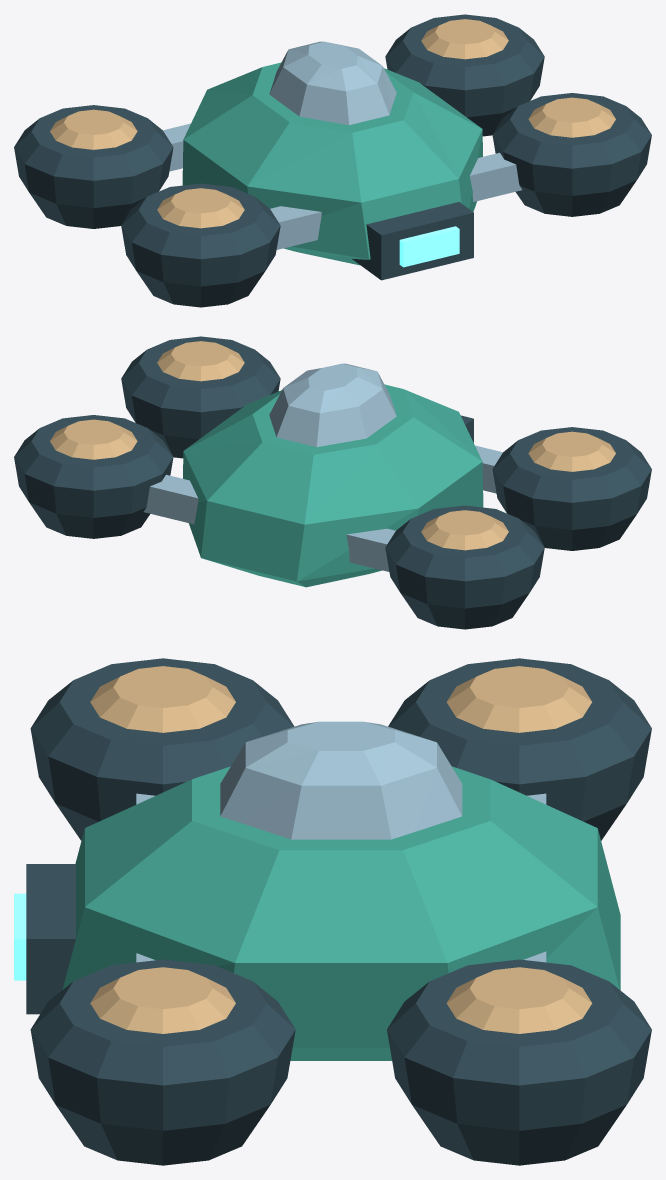
Rendered from survey-drone.glb.
3 views of the same model, one above another, from view 1: azimuth 30°, elevation 25°; view 2: azimuth 150°, elevation 25°; view 3: azimuth 270°, elevation 25° (orthographic). The views are drawn at different scales.
Parts seen in each view (by area): view 1: Survey drone; view 2: Survey drone; view 3: Survey drone.
Part boxes in pixels (<box>): Survey drone: <box>14,14,651,307</box>; Survey drone: <box>14,336,651,629</box>; Survey drone: <box>14,658,651,1165</box>.
Bounding box in the file's own units: 2.36 × 0.74 × 1.54.
